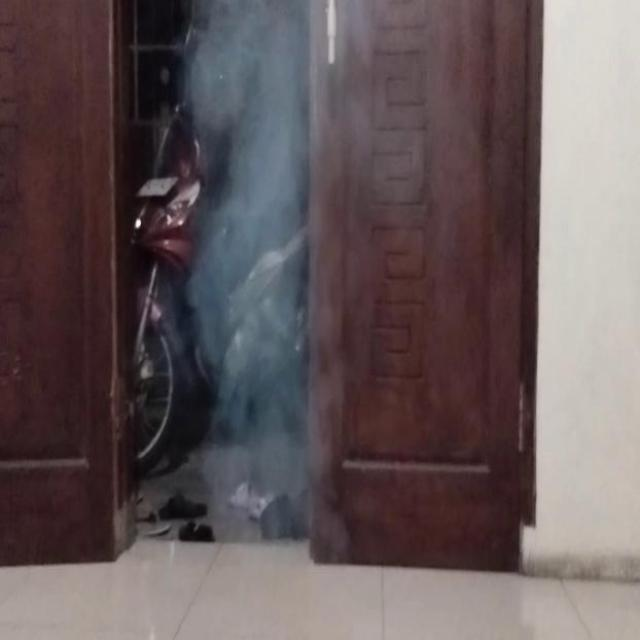fire: (181, 0, 348, 558)
